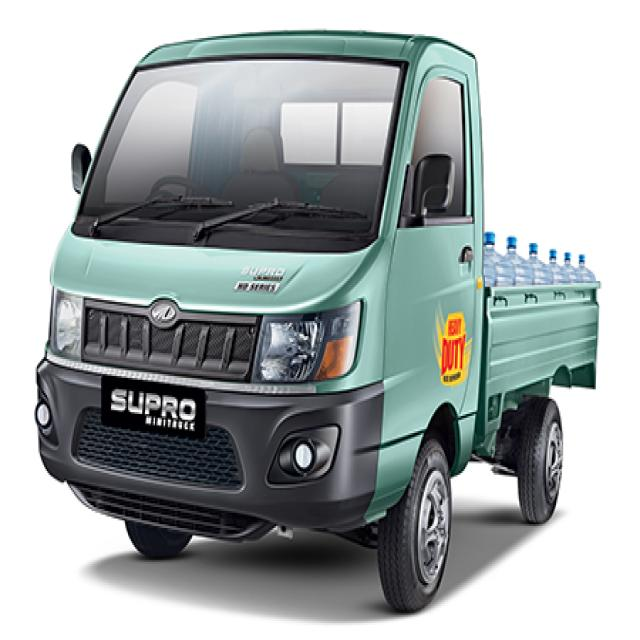truck: (35, 32, 599, 610)
